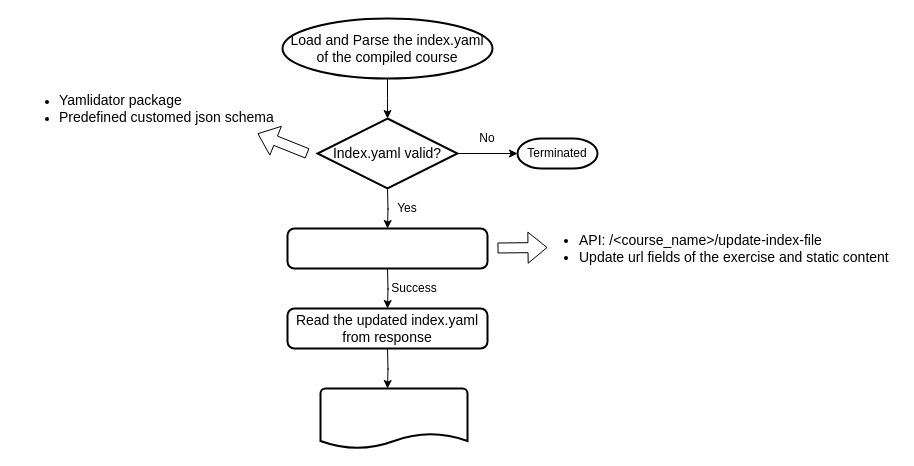
Image size: 914x466. Some labels were removed from this diagram. The shapes that lost their labels are listed below. From the top down, each one's centre as x and y in pixels, then its label:
At point 387,248: "Send request to mooc-grader to update index.yaml".
At point 393,418: "Generate A+ json file".
